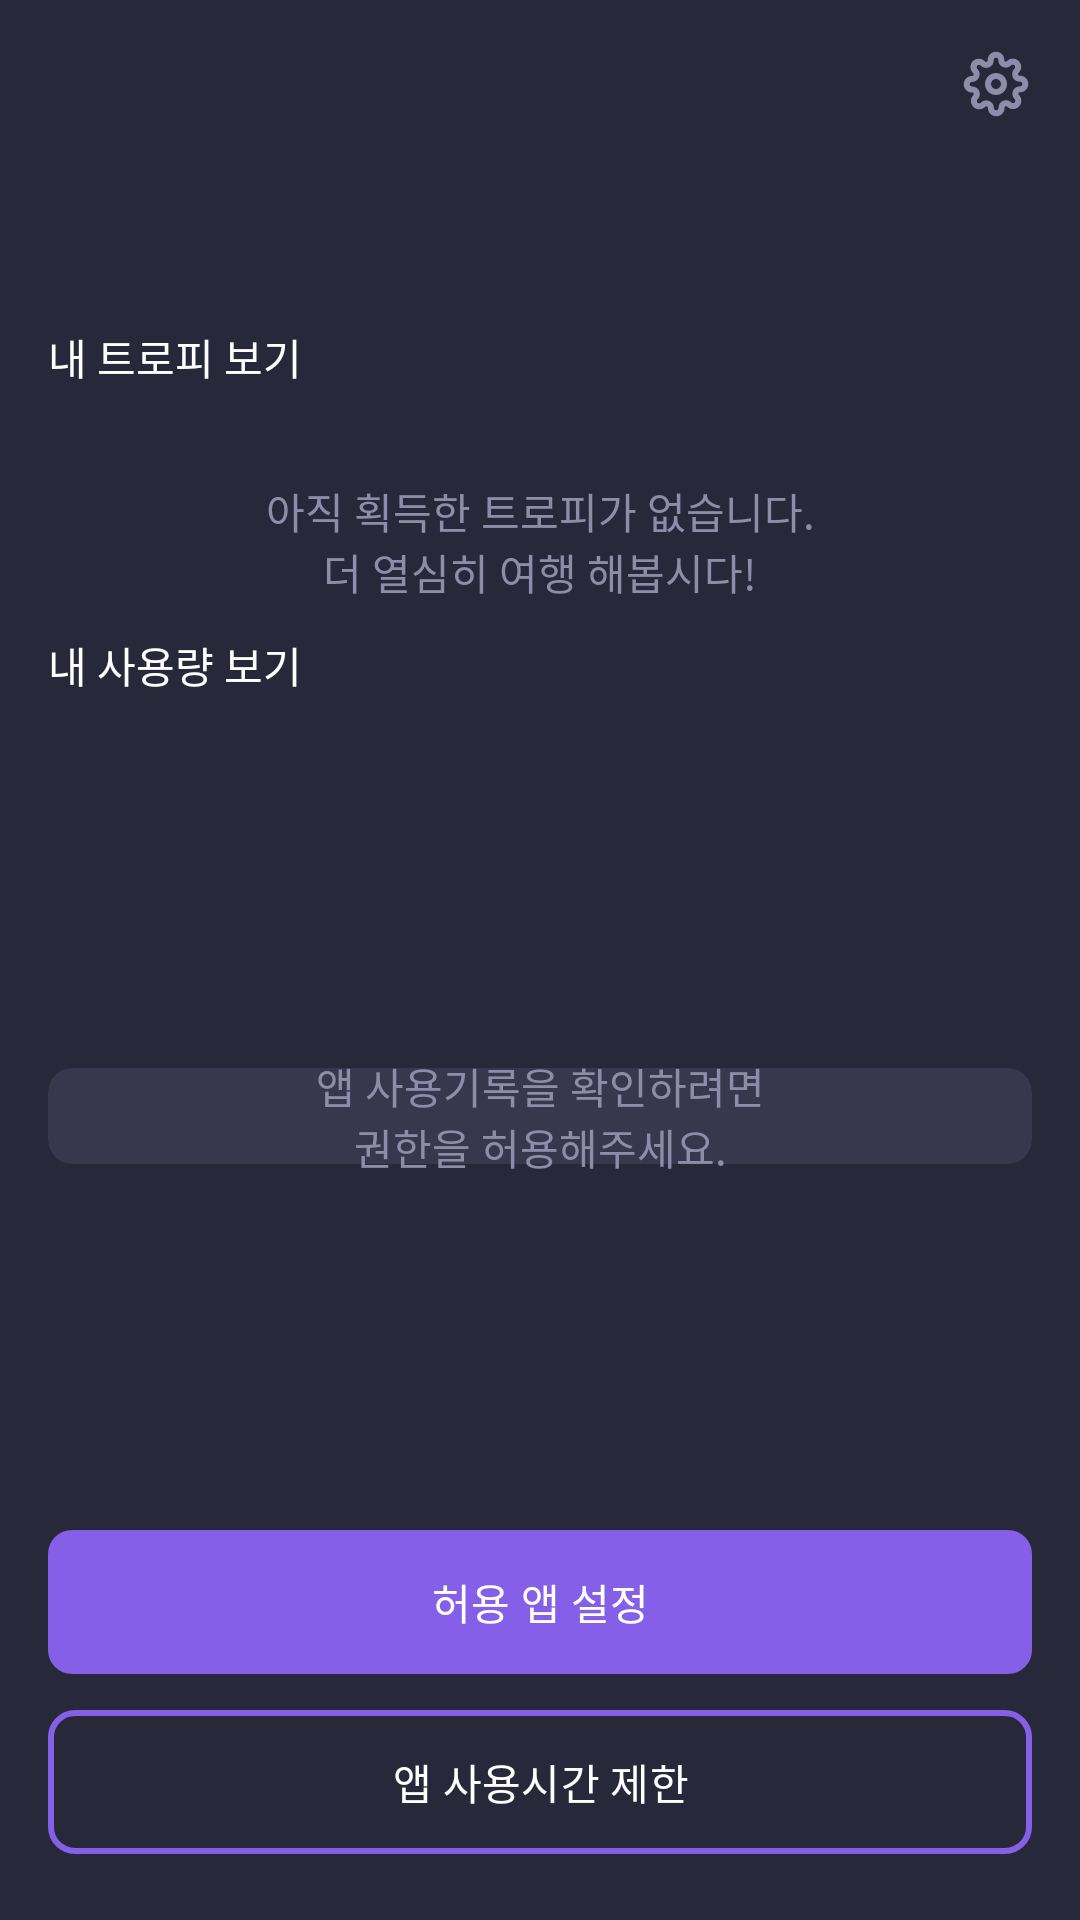

Named icons in this screenshot (1080px×1920px) and their bounding boxes, {"x1": x1, "y1": y1, "x2": x2, "y2": y2}:
settings: {"x1": 963, "y1": 51, "x2": 1029, "y2": 117}
